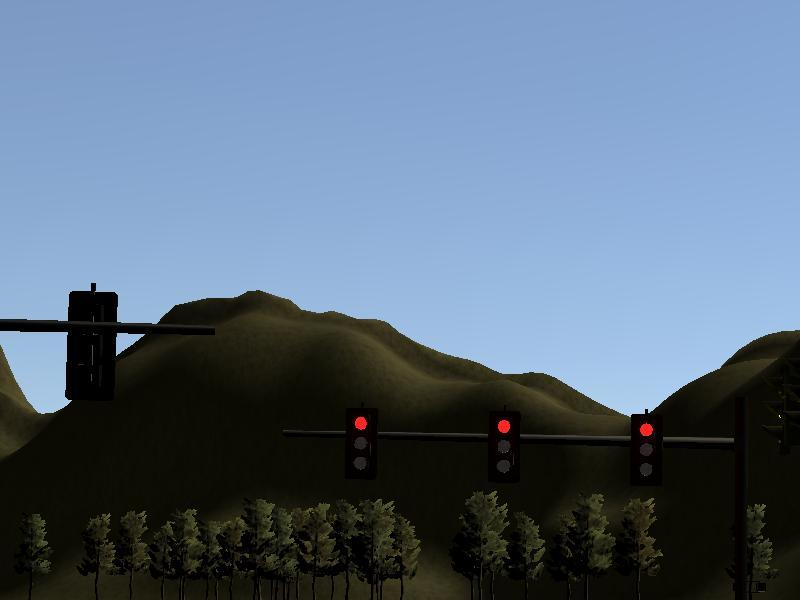Red: (629, 413, 661, 486), (487, 409, 519, 482), (344, 406, 376, 479)
